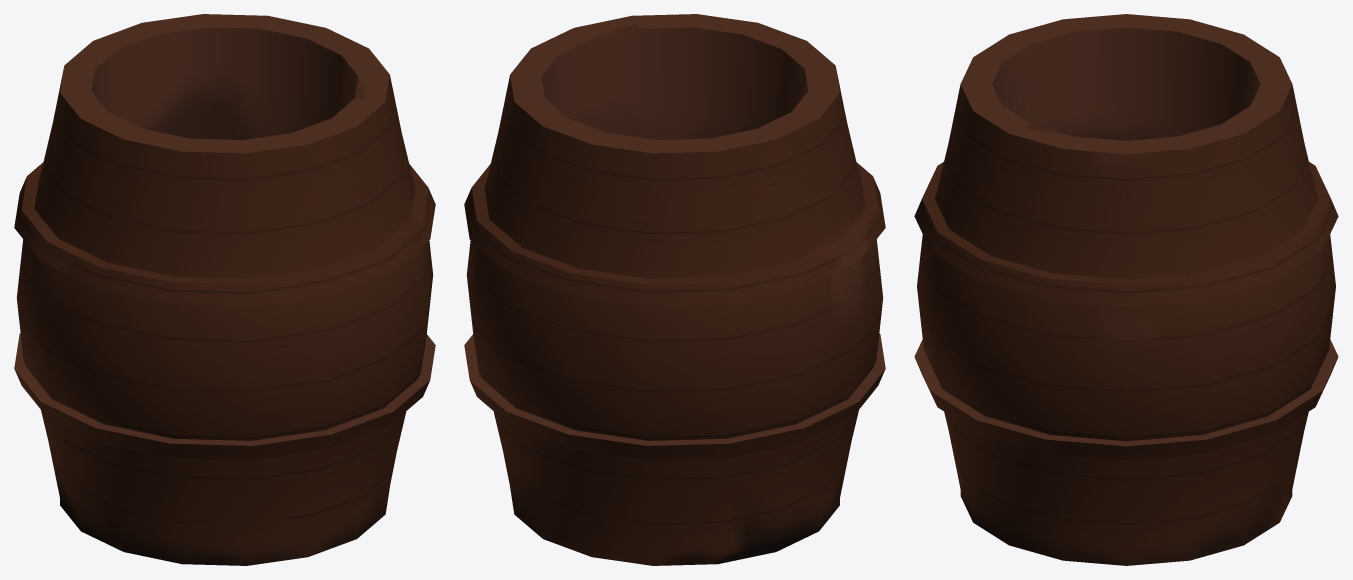
The model's file is Barrel.fbx.
The picture shows the model from 3 angles, left to right: view 1: azimuth 30°, elevation 25°; view 2: azimuth 150°, elevation 25°; view 3: azimuth 270°, elevation 25°; orthographic projection.
Parts seen in each view (by area): view 1: Cylinder; view 2: Cylinder; view 3: Cylinder.
Part boxes in pixels (x1,y1,x2,y2): Cylinder: (14,14,435,565); Cylinder: (464,14,885,565); Cylinder: (914,14,1338,565).
Size of the model in its own units: 342 by 366 by 342.
1 material, 1 textured.
